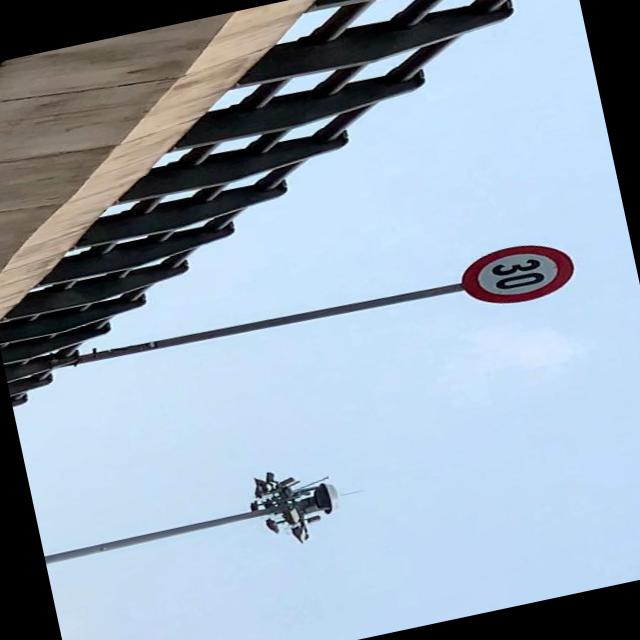P-127: (458, 235, 579, 312)
